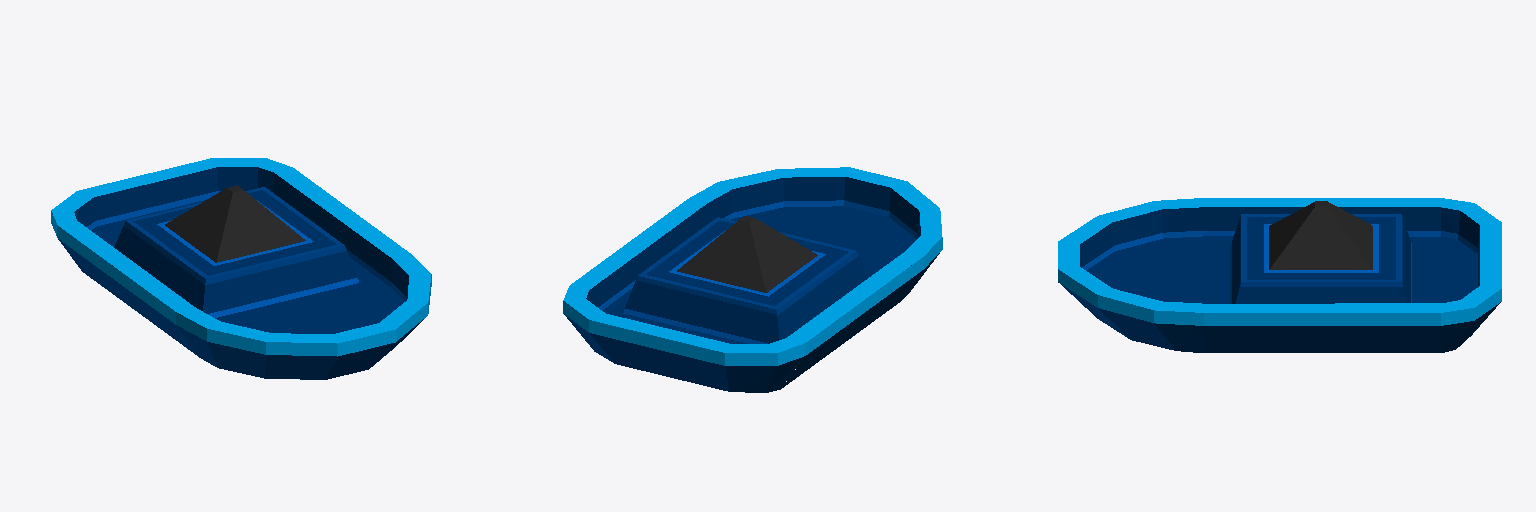
3 renders of one model, left to right at view 1: azimuth 30°, elevation 25°; view 2: azimuth 150°, elevation 25°; view 3: azimuth 270°, elevation 25°, orthographic.
Parts seen in each view (by area): view 1: Cube.009; view 2: Cube.009; view 3: Cube.009.
Part boxes in pixels (x1,y1,x2,y2): Cube.009: (51, 158, 431, 379); Cube.009: (563, 167, 942, 392); Cube.009: (1058, 198, 1501, 352).
Bounding box in the file's own units: 0.5102 × 0.215 × 0.8302.
1 materials, 1 textured.